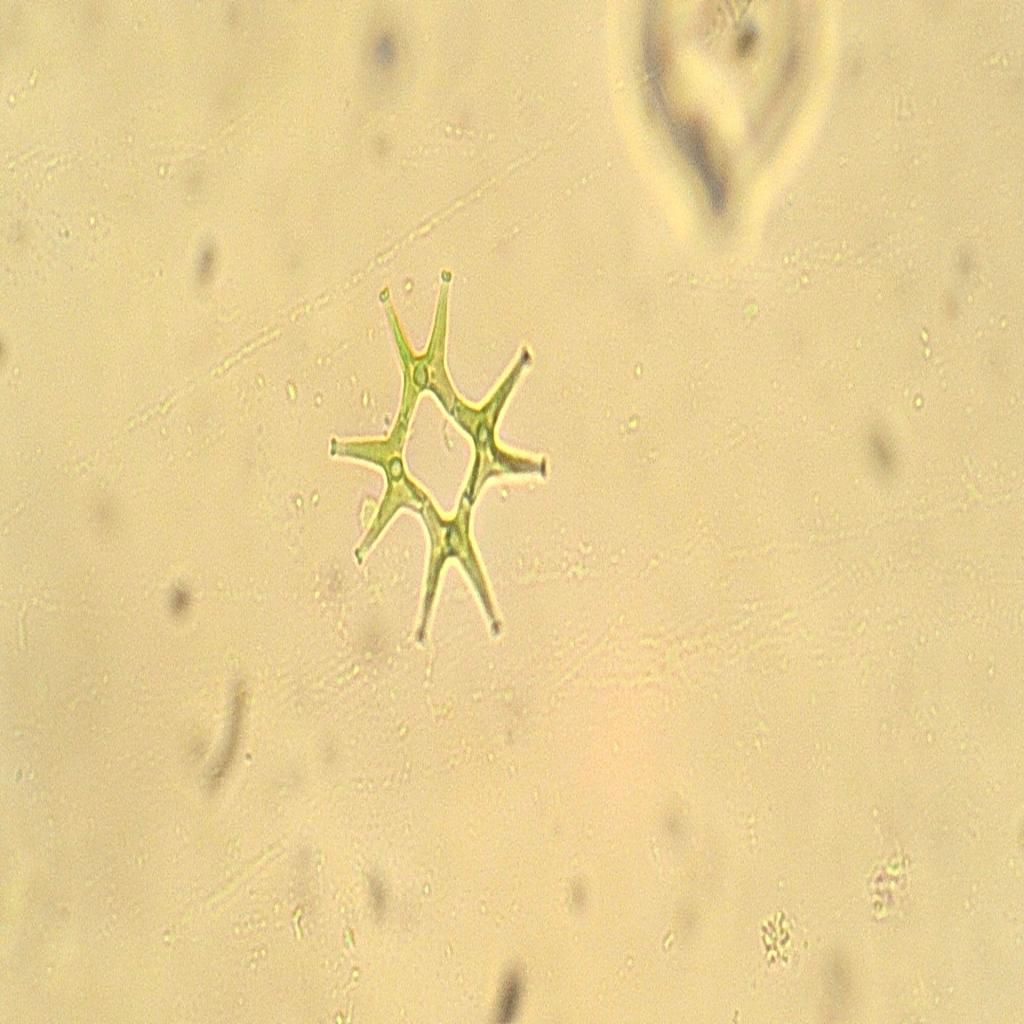Pediastrum_CO: (315, 242, 563, 680)
